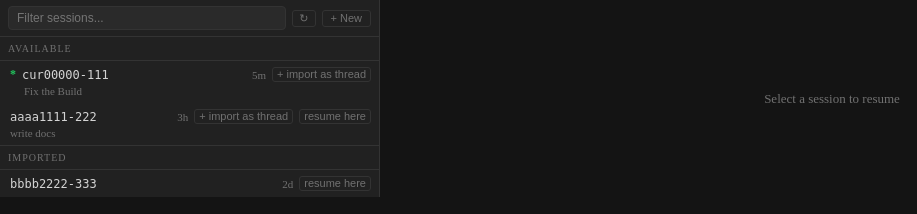
Test: SessionsPanel › filters by id or case-insensitive last message
The image size is (917, 214).
Check: the text "cur00000-111" is shown, box [22,68,109,82]
Type "aaaa" into the field with placeholder "Filter sessions..." at (147,18), box [8,6,286,30]
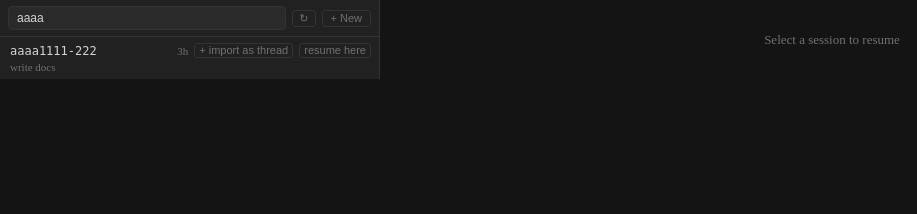
Check: the text "aaaa1111-222" is shown, box [10,44,97,58]
Check: the text "cur00000-111" is gone
Replace the text in the field with "fix THE" at (147,18), box [8,6,286,30]
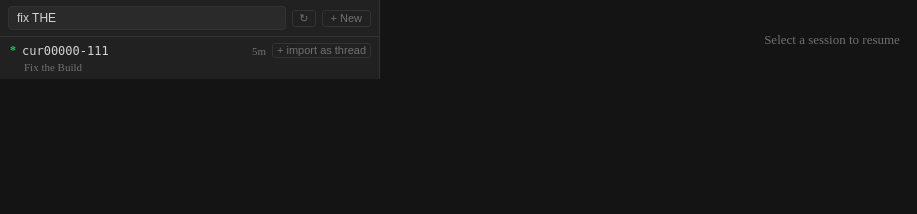
Check: the text "aaaa1111-222" is not shown
Check: the text "cur00000-111" is shown, box [22,44,109,58]
Replace the text in the field with "zzz" at (147,18), box [8,6,286,30]
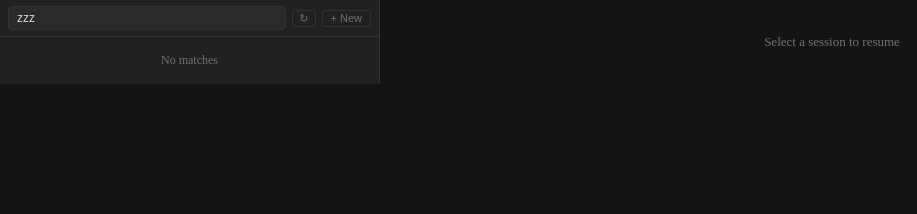
Check: the text "No matches" is shown, box [161,53,218,67]
